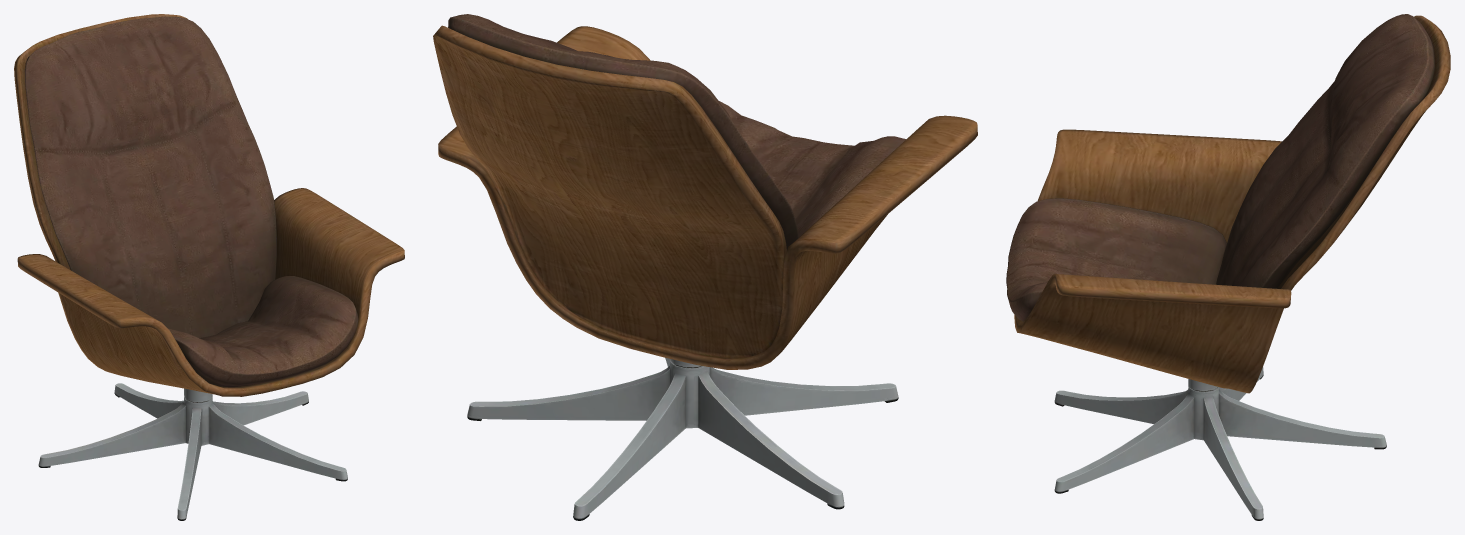
File: lounge.glb
3 views of the same model, side by side, from view 1: azimuth 30°, elevation 25°; view 2: azimuth 150°, elevation 25°; view 3: azimuth 270°, elevation 25° (orthographic). The views are drawn at different scales.
Parts seen in each view (by area): view 1: cushion, shell, base; view 2: shell, base, cushion; view 3: shell, cushion, base.
Part boxes in pixels (x1=…): cushion: x1=24, y1=16, x2=358, y2=387; shell: x1=14, y1=14, x2=404, y2=396; base: x1=38, y1=383, x2=347, y2=520; shell: x1=433, y1=25, x2=977, y2=369; base: x1=467, y1=357, x2=898, y2=520; cushion: x1=448, y1=14, x2=906, y2=249; shell: x1=1014, y1=15, x2=1450, y2=393; cushion: x1=1006, y1=14, x2=1434, y2=321; base: x1=1054, y1=367, x2=1386, y2=520.
Size of the model in its own units: 1.01 by 1.17 by 1.19.
1 material, 1 textured.
